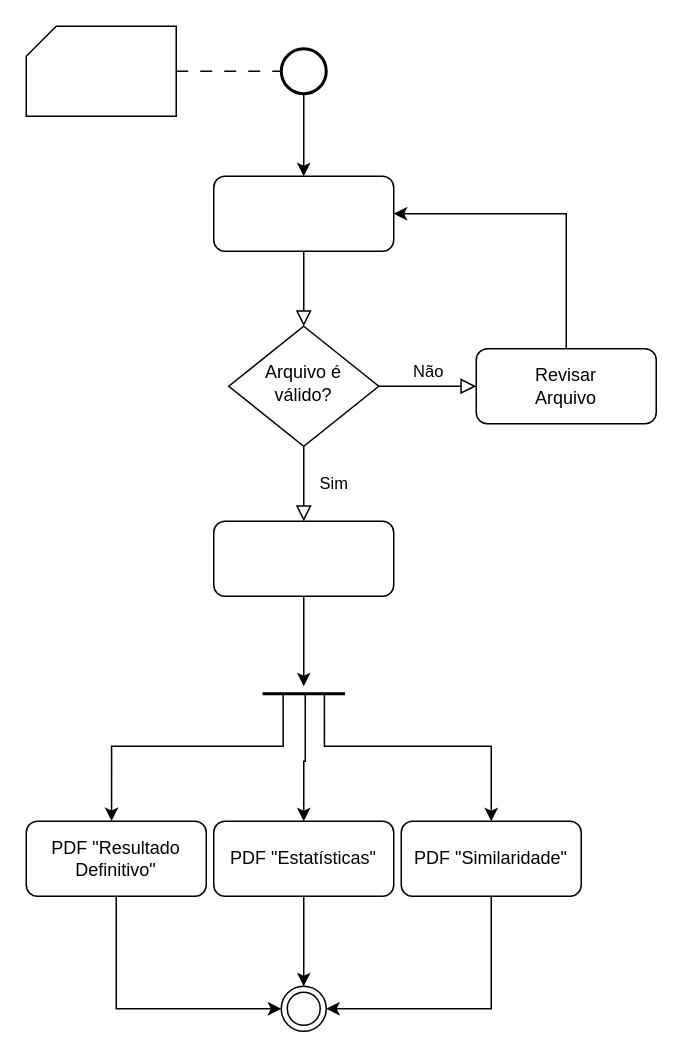
Some shapes in this 683 by 1058 pixel diagram are drawn without their labels. Each missing label, with the box of its shape:
Análise de Arquivo: (212, 175, 394, 251)
Compilação; Retorno SISTAC; Planilha de Erros: (25, 25, 176, 116)
Lista de Solicitações: (212, 520, 394, 596)
